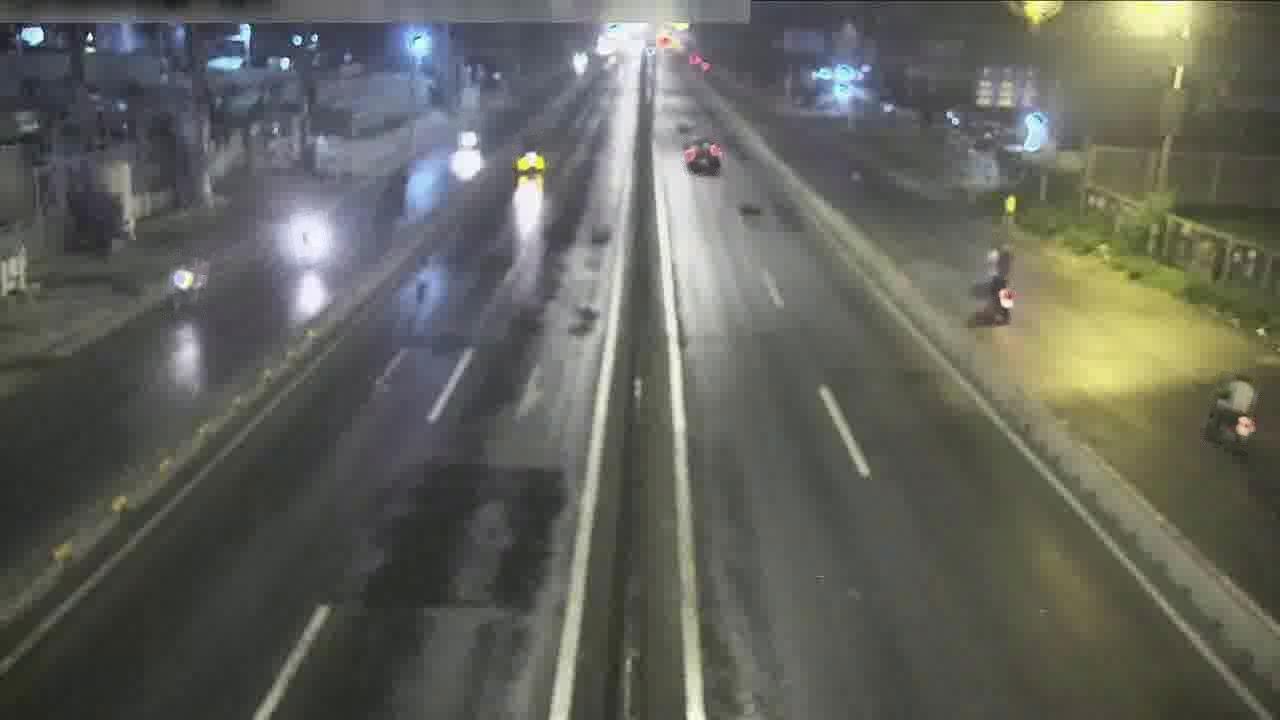Car: (683, 138, 722, 175)
Motorcyclist: (1204, 374, 1257, 451), (169, 257, 209, 313), (290, 214, 331, 267), (991, 276, 1014, 324), (988, 245, 1011, 277), (457, 122, 479, 149)
Truck: (513, 134, 545, 180)
